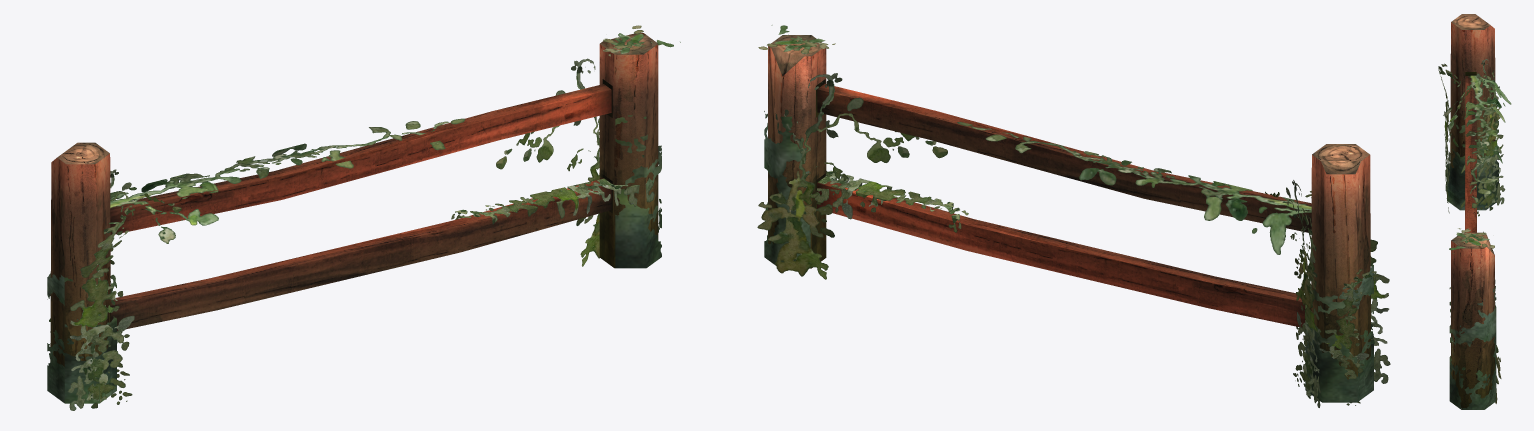
File: fence2.fbx
3 renders of one model, left to right at view 1: azimuth 30°, elevation 25°; view 2: azimuth 150°, elevation 25°; view 3: azimuth 270°, elevation 25°, orthographic. The views are drawn at different scales.
Visible parts, largest first — view 1: fence2; view 2: fence2; view 3: fence2.
Boxes of the visible parts, x1,y1,x2,y2 form: fence2: (47, 25, 680, 410); fence2: (757, 25, 1390, 407); fence2: (1438, 14, 1511, 409).
Bounding box in the file's own units: 359 × 133 × 57.2.
